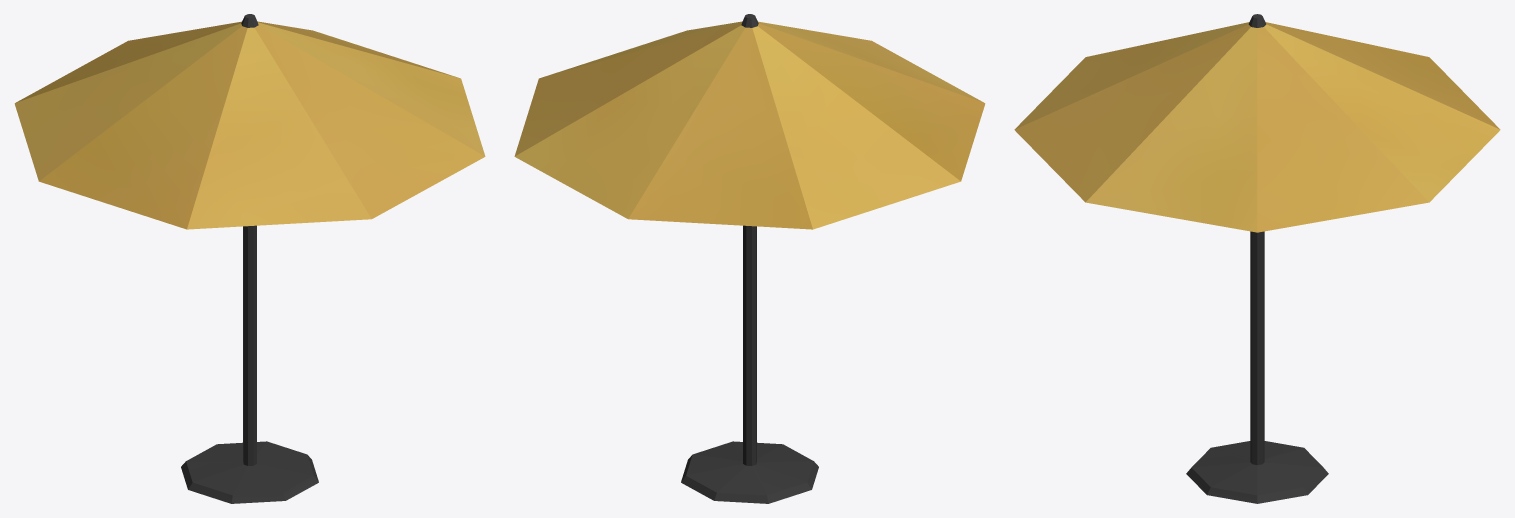
Rendered from Parasol.fbx.
The picture shows the model from 3 angles, left to right: view 1: azimuth 30°, elevation 25°; view 2: azimuth 150°, elevation 25°; view 3: azimuth 270°, elevation 25°; orthographic projection.
Parts seen in each view (by area): view 1: Parasol; view 2: Parasol; view 3: Parasol.
Part boxes in pixels (x1,y1,x2,y2): Parasol: (14,14,485,503); Parasol: (514,14,985,503); Parasol: (1014,14,1500,503).
Size of the model in its own units: 271 by 271 by 281.
